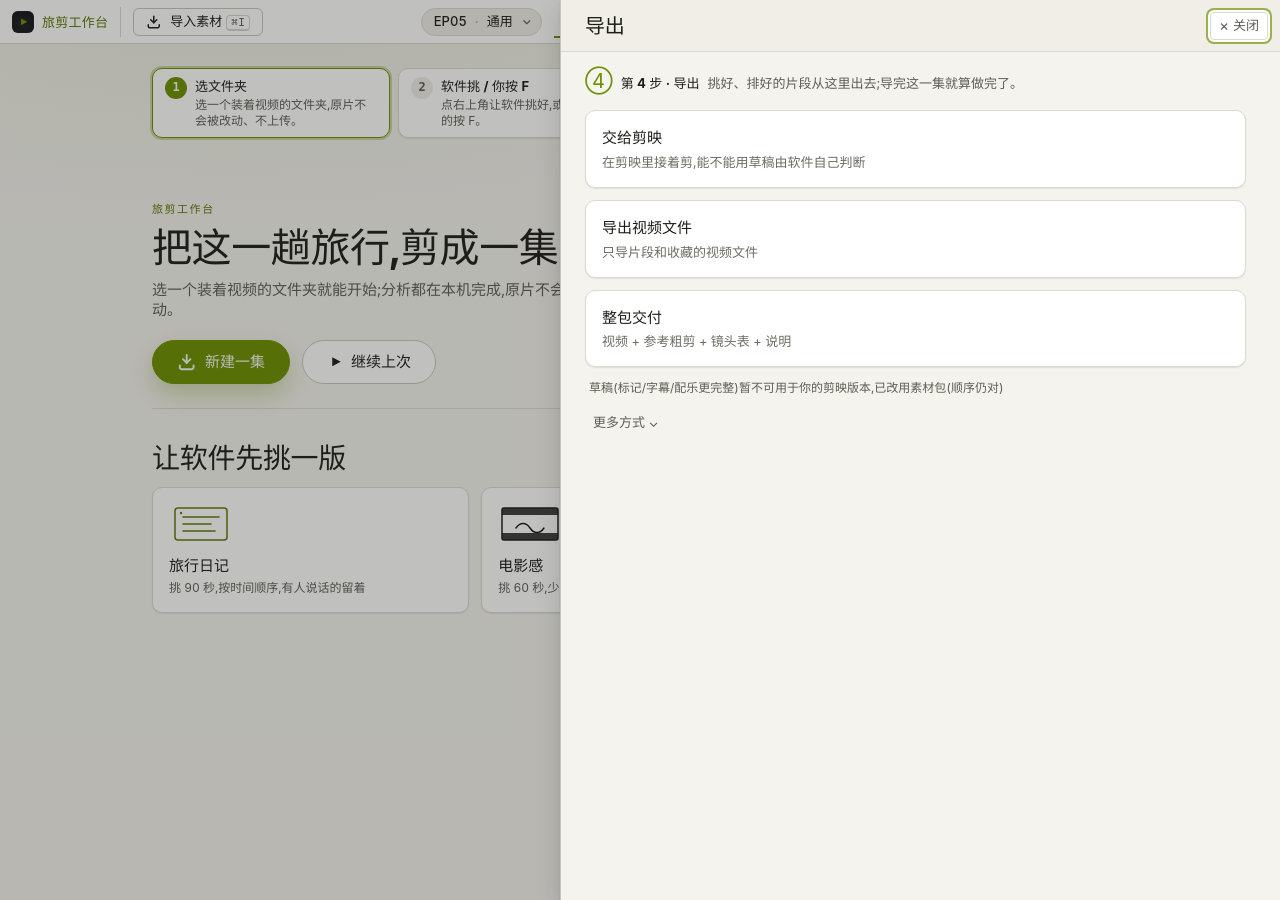
Scenario: 交付抽屉首屏三卡(U-06/P-04) › 点「整包交付」直接落在完整交付包表单
The image size is (1280, 900).
Click the button "整包交付 视频 + 参考粗剪 + 镜头表 + 说明".
click(632, 317)  # box [585,290,1246,367]
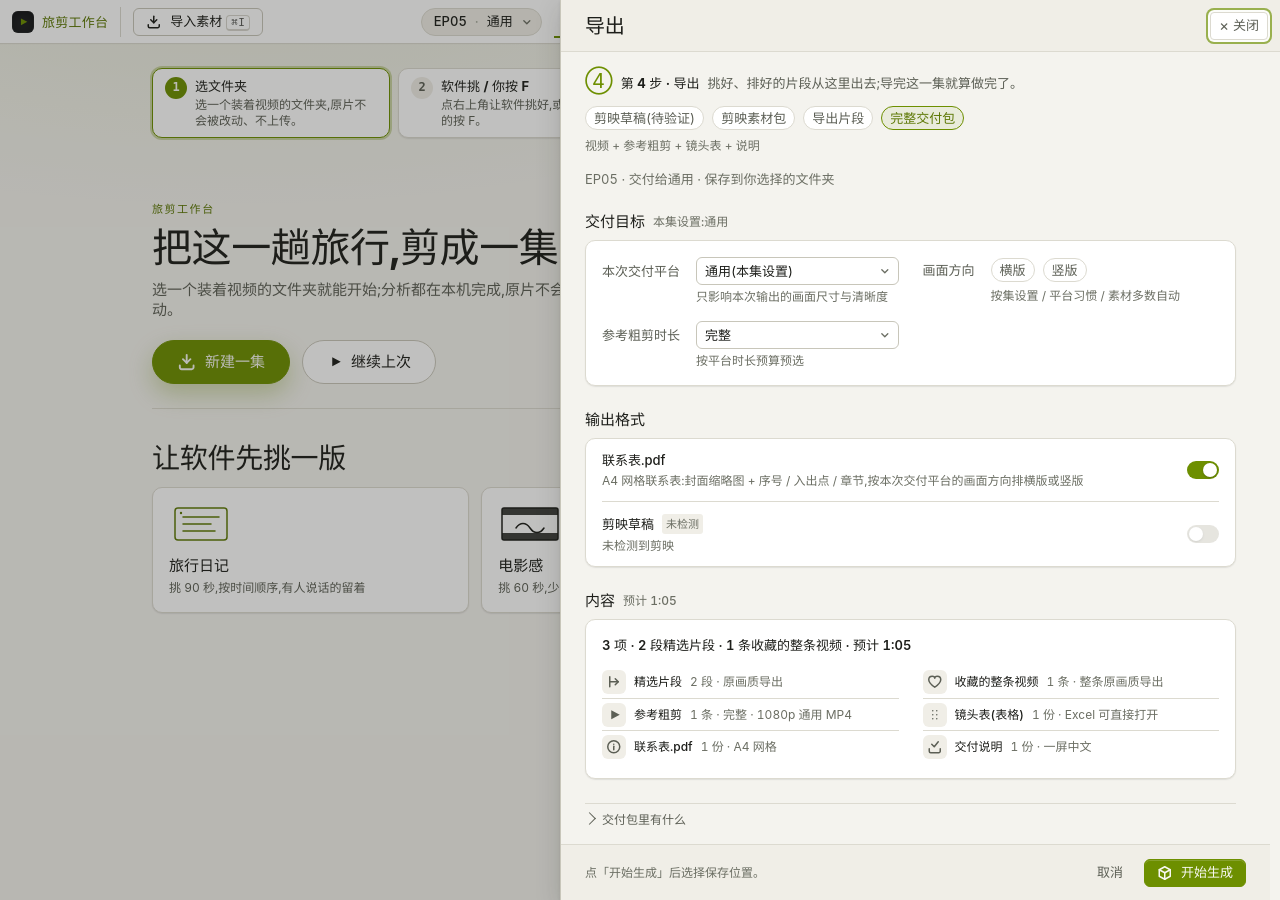
Result: the text "本次交付平台" is shown at [602,262,680,280]
